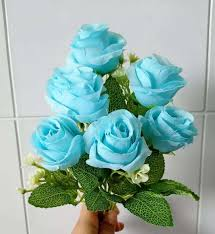rose: (28, 18, 198, 178)
